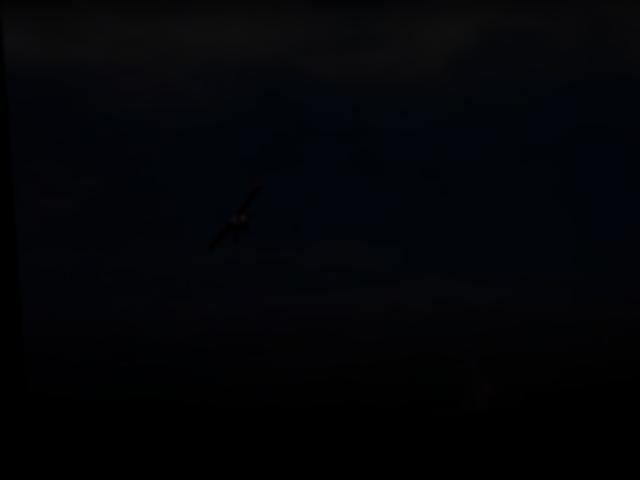uav: (197, 182, 263, 254)
